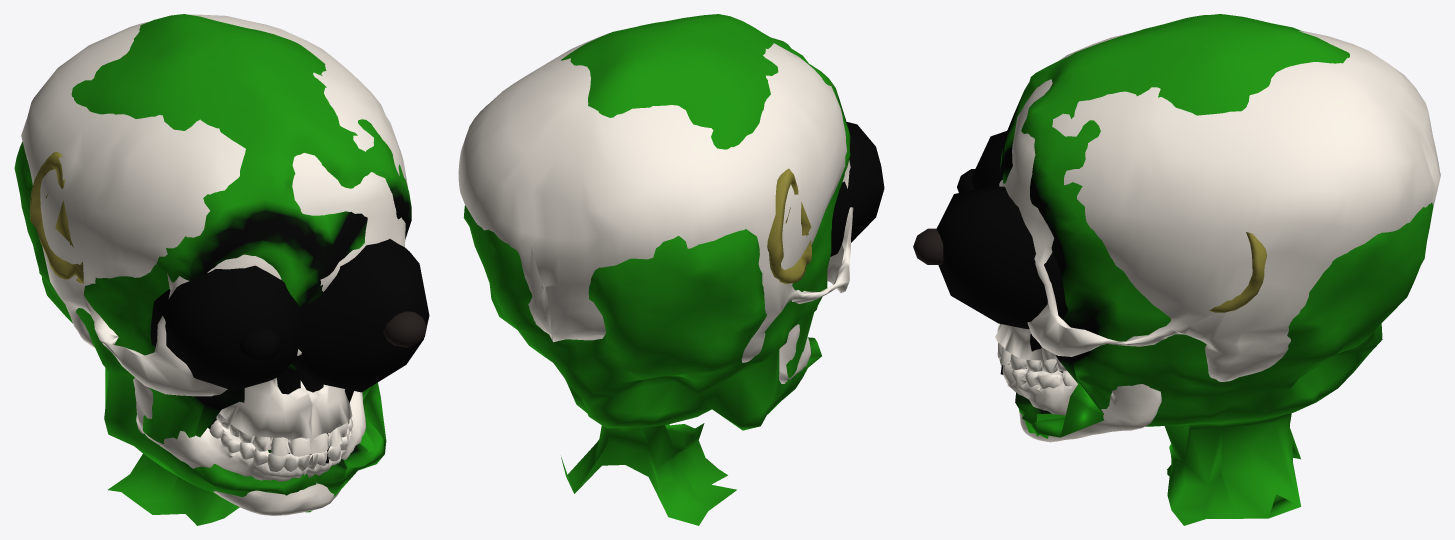
Rendered from skull_male_head.glb.
The picture shows the model from 3 angles, left to right: view 1: azimuth 30°, elevation 25°; view 2: azimuth 150°, elevation 25°; view 3: azimuth 270°, elevation 25°; orthographic projection. The views are drawn at different scales.
Parts seen in each view (by area): view 1: Base, Skull, EyeLeftOuter, EyeRightOuter, EarRight, EyeLeftInner, EyeRightInner; view 2: Base, Skull, EyeRightOuter, EarRight; view 3: Skull, Base, EyeLeftOuter, EarLeft, EyeRightOuter, EyeLeftInner.
Boxes of the visible parts, x1,y1,x2,y2 form: Base: [14, 14, 411, 525]; Skull: [21, 14, 407, 515]; EyeLeftOuter: [291, 239, 429, 392]; EyeRightOuter: [150, 265, 301, 389]; EarRight: [29, 152, 83, 283]; EyeLeftInner: [383, 311, 426, 347]; EyeRightInner: [239, 328, 281, 362]; Base: [463, 14, 850, 525]; Skull: [458, 32, 853, 383]; EyeRightOuter: [830, 122, 884, 256]; EarRight: [767, 168, 811, 284]; Skull: [995, 31, 1440, 442]; Base: [1000, 14, 1433, 525]; EyeLeftOuter: [936, 184, 1068, 329]; EarLeft: [1209, 232, 1266, 312]; EyeRightOuter: [971, 131, 1006, 189]; EyeLeftInner: [913, 228, 943, 264].
Size of the model in its own units: 1.42 by 1.9 by 1.97.
